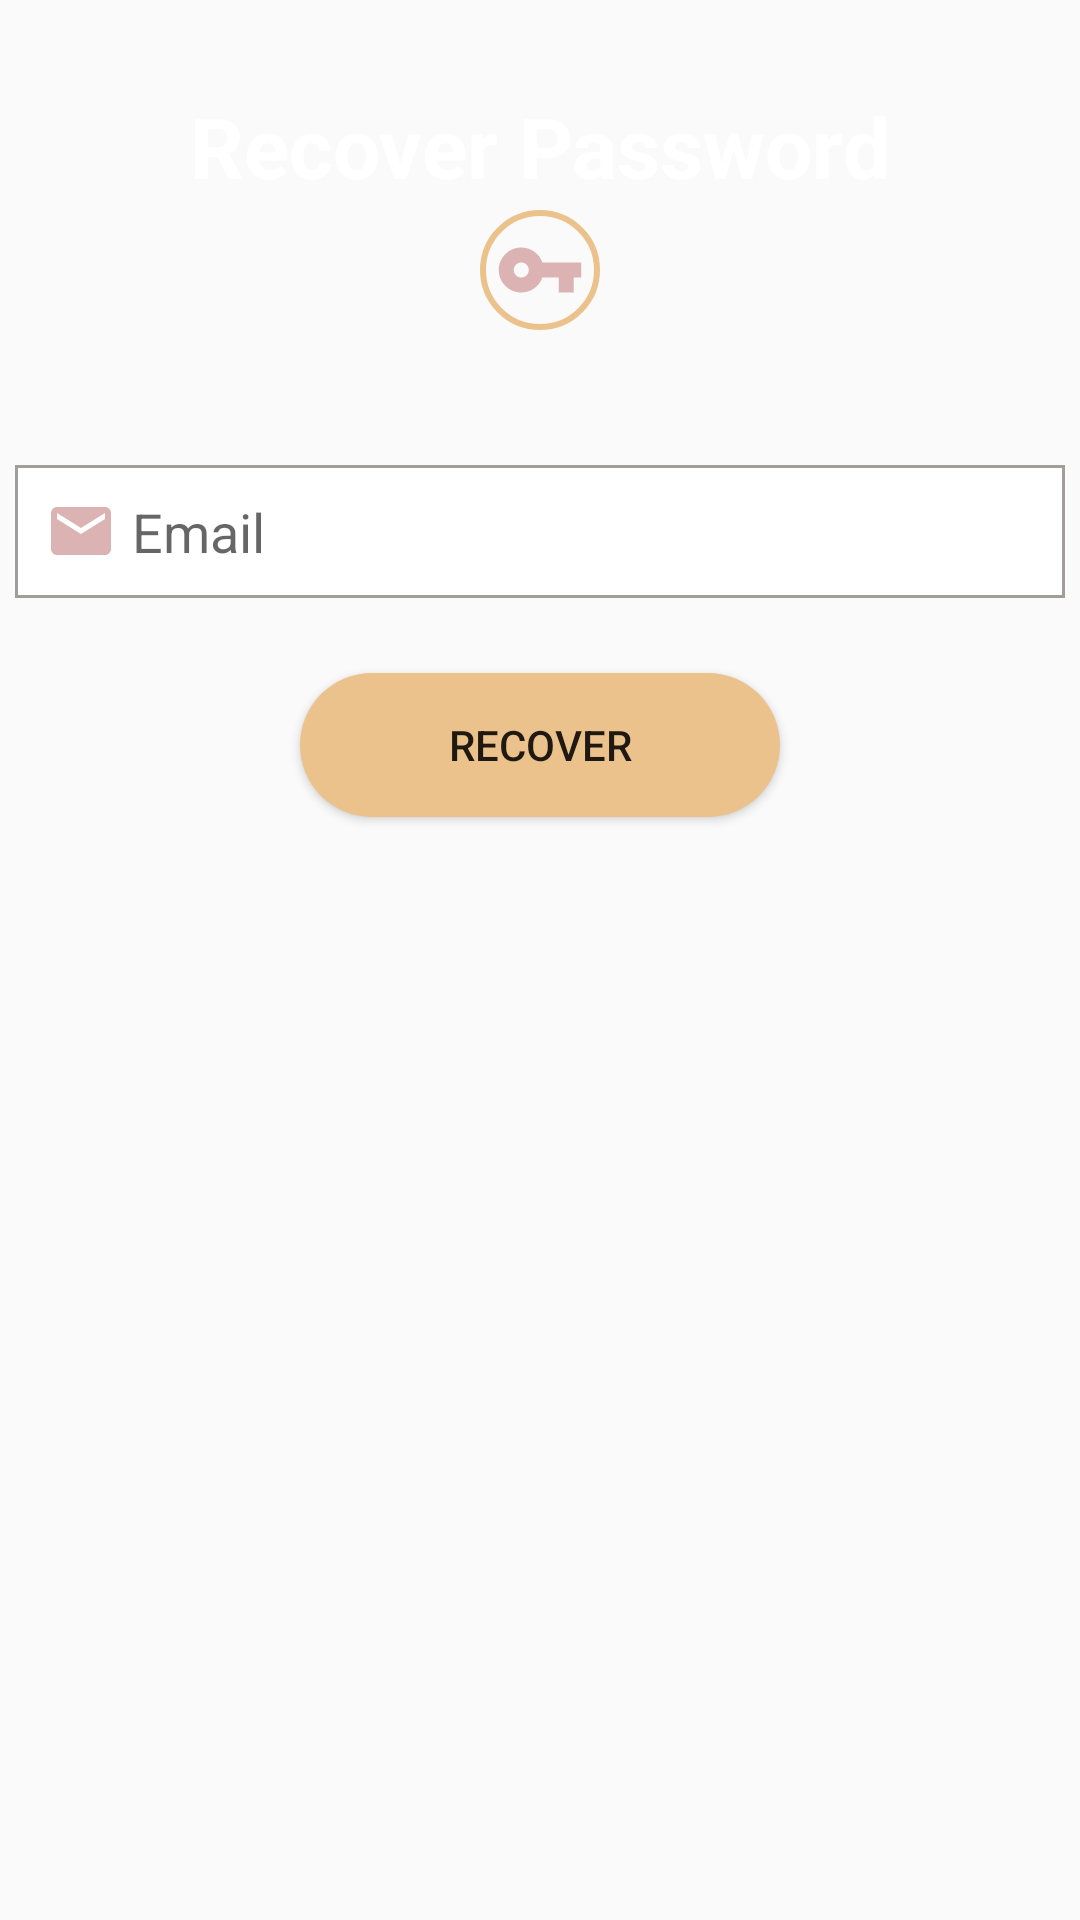

Screen size 1080px x 1920px. Icon name, then its center in pixels as (x,y):
key: (540,270)
